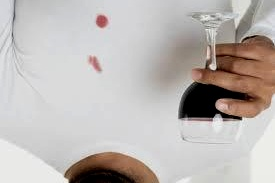wine: (86, 56, 103, 74), (93, 12, 111, 27)
